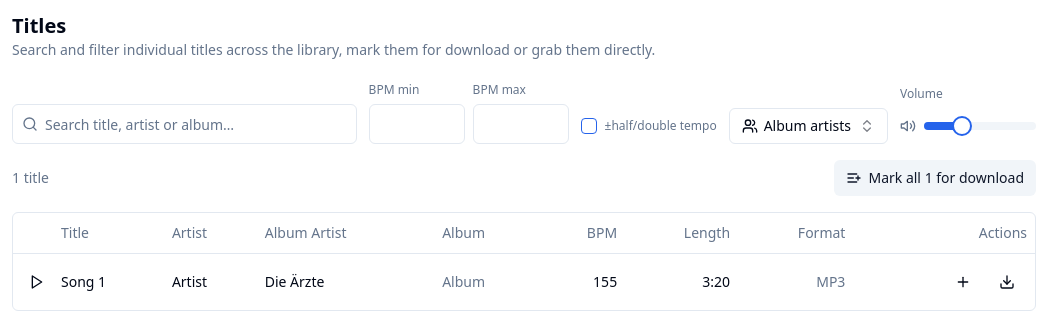
Test: LibraryTitlesPage › renders a play button per row and toggles to pause on click
Click the button named "Play Song 1": (37, 282) top-left (21, 266), bottom-right (53, 298)
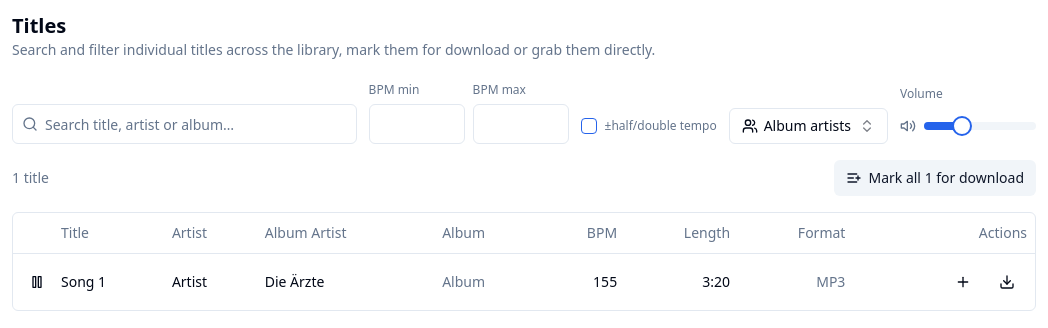
Expected: the button named "Pause Song 1" is shown, top-left (21, 266), bottom-right (53, 298)
